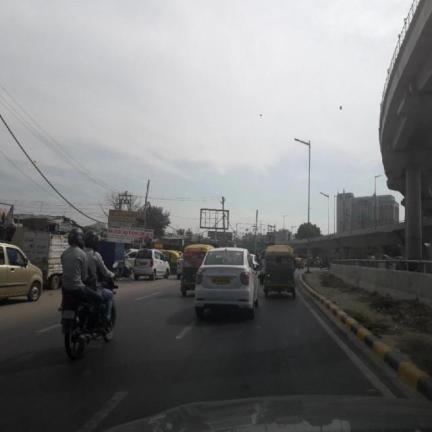Road: (0, 278, 395, 431)
